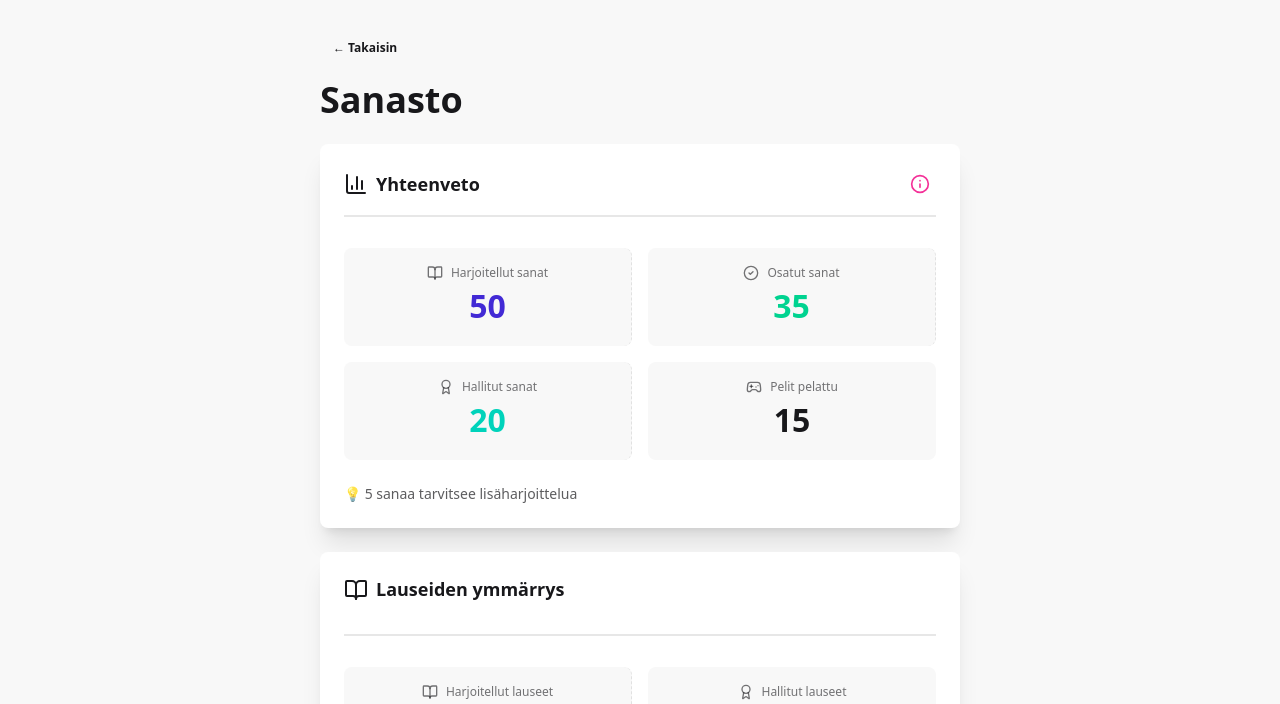
Test: Sanasto Page › opens dialog when practiced words is clicked
Click the button "Harjoitellut sanat 50".
click(488, 297)  # box [344, 248, 632, 346]
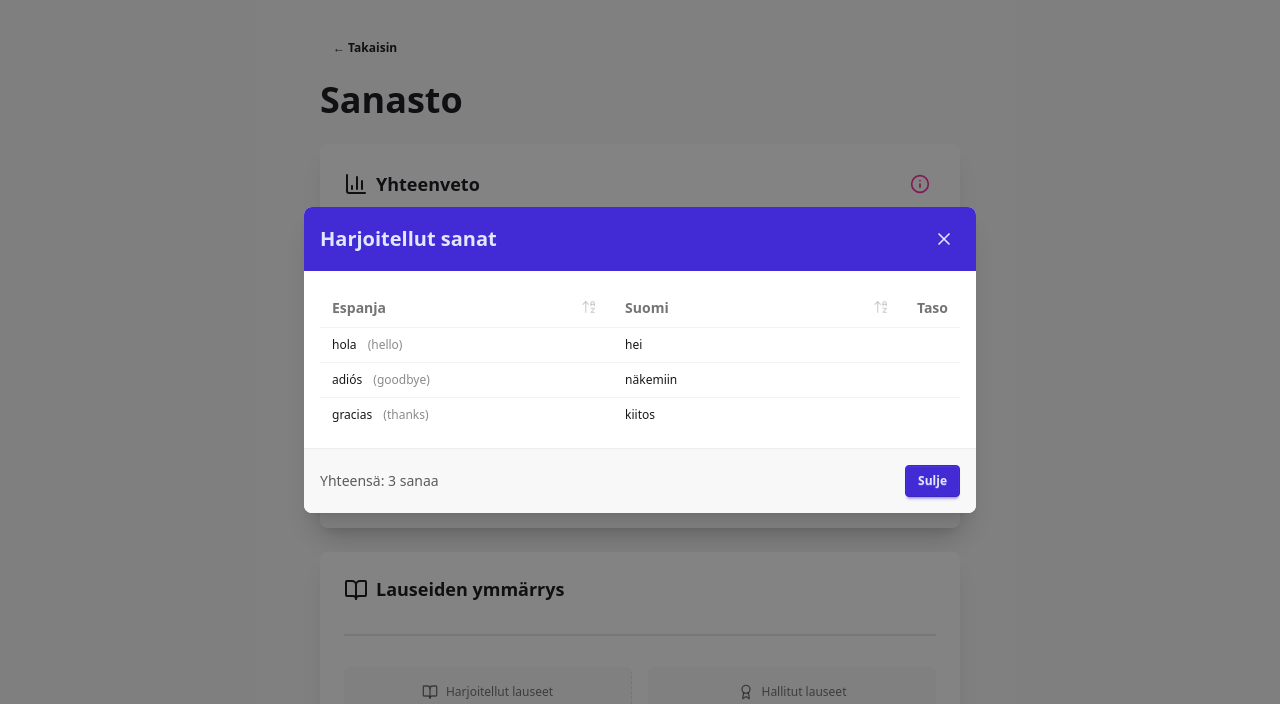
Now the dialog is shown, box [304, 207, 976, 513]
Now the heading "Harjoitellut sanat" is shown, box [320, 225, 497, 253]
